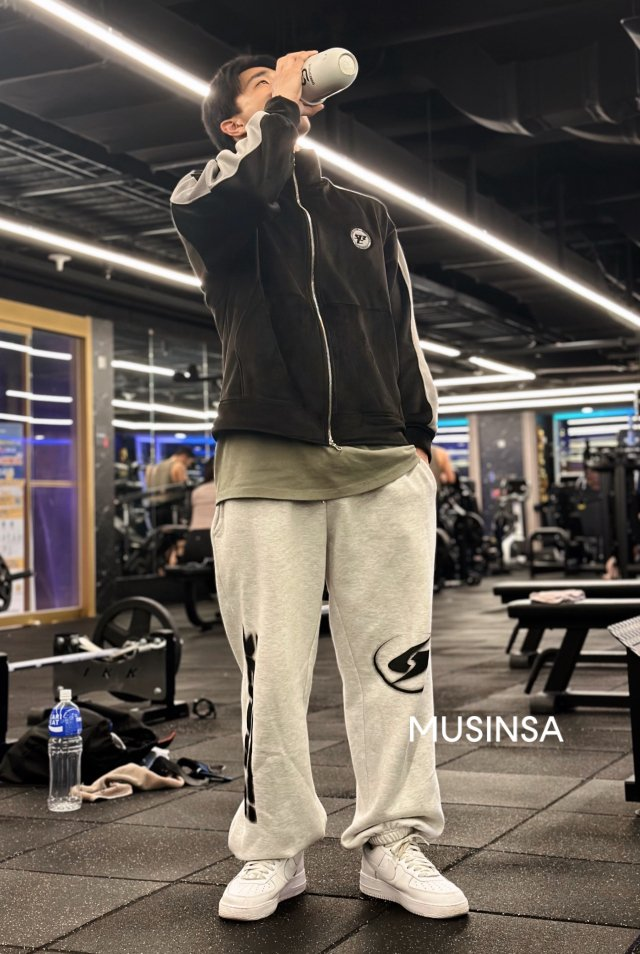Outer: (166, 153, 451, 468)
Shoes: (218, 848, 479, 927)
Training pants: (202, 462, 452, 846)
